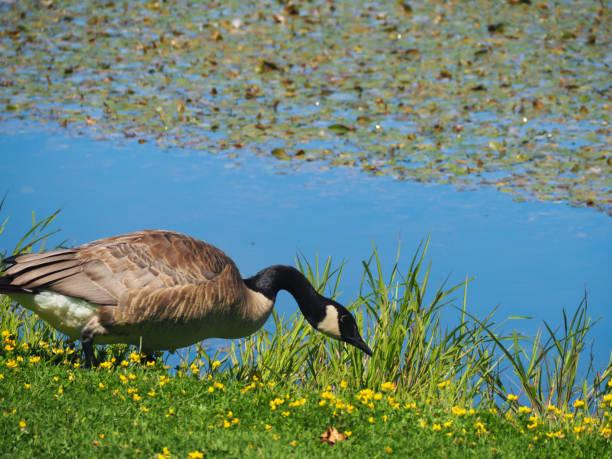Canadian-Goose: (1, 229, 371, 391)
